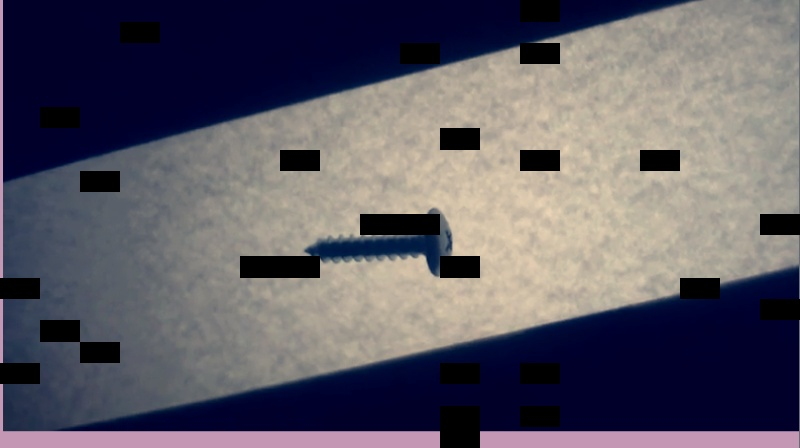S003: (298, 205, 456, 280)
